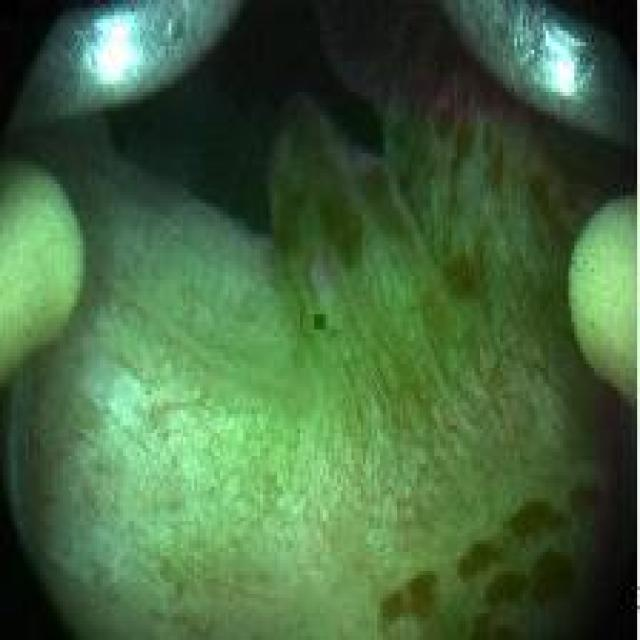color misalignment: (306, 308, 328, 334)
contrast: (90, 7, 520, 249)
instrument: (15, 2, 272, 145), (446, 4, 633, 152), (2, 160, 76, 388), (562, 191, 633, 417)
specularity: (89, 11, 151, 89), (538, 25, 583, 101)
